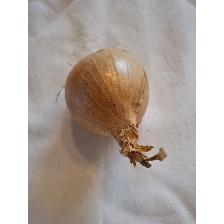Zwiebel: (63, 46, 169, 170)
